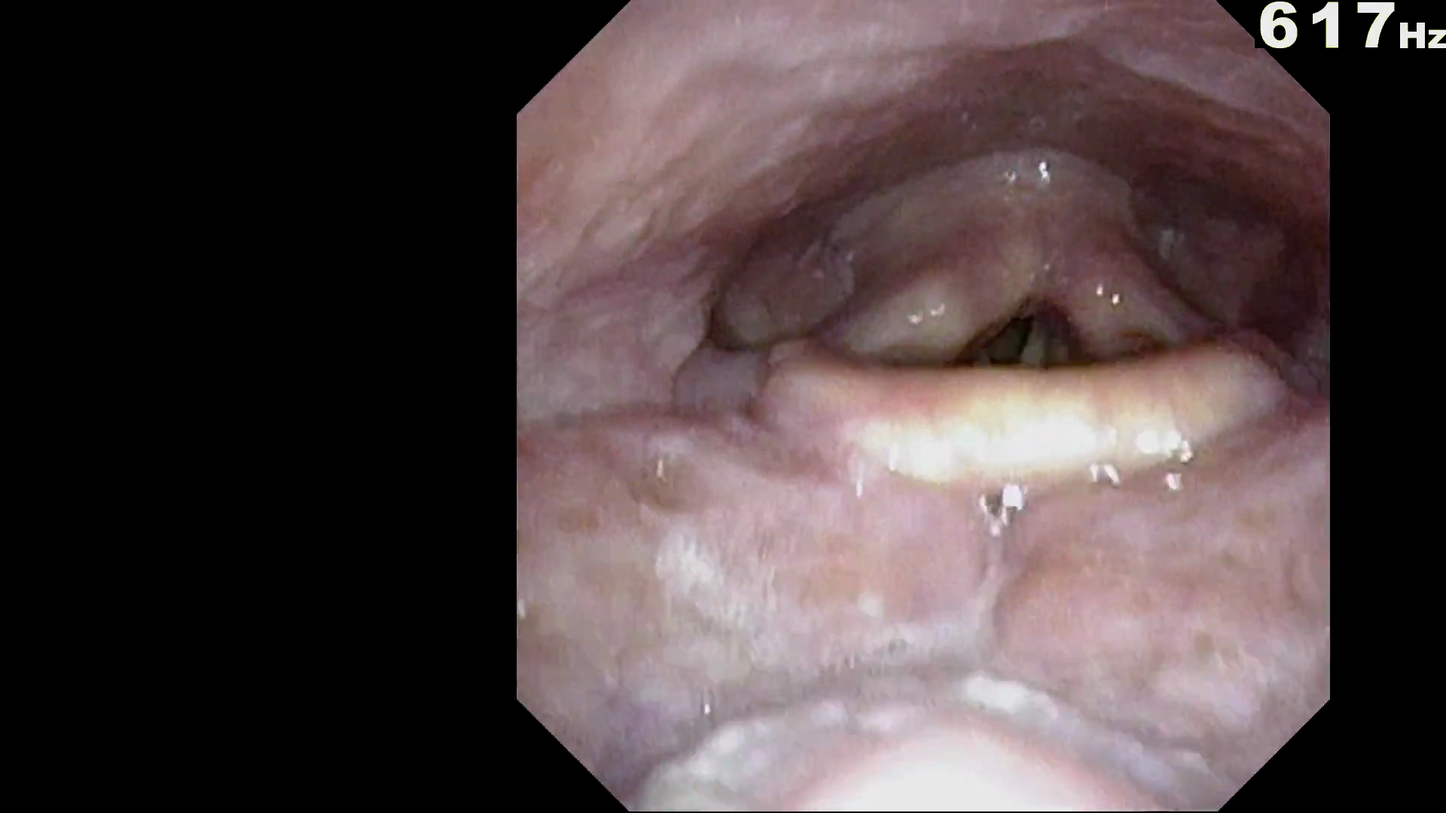epiglottis: (731, 304, 1305, 557)
